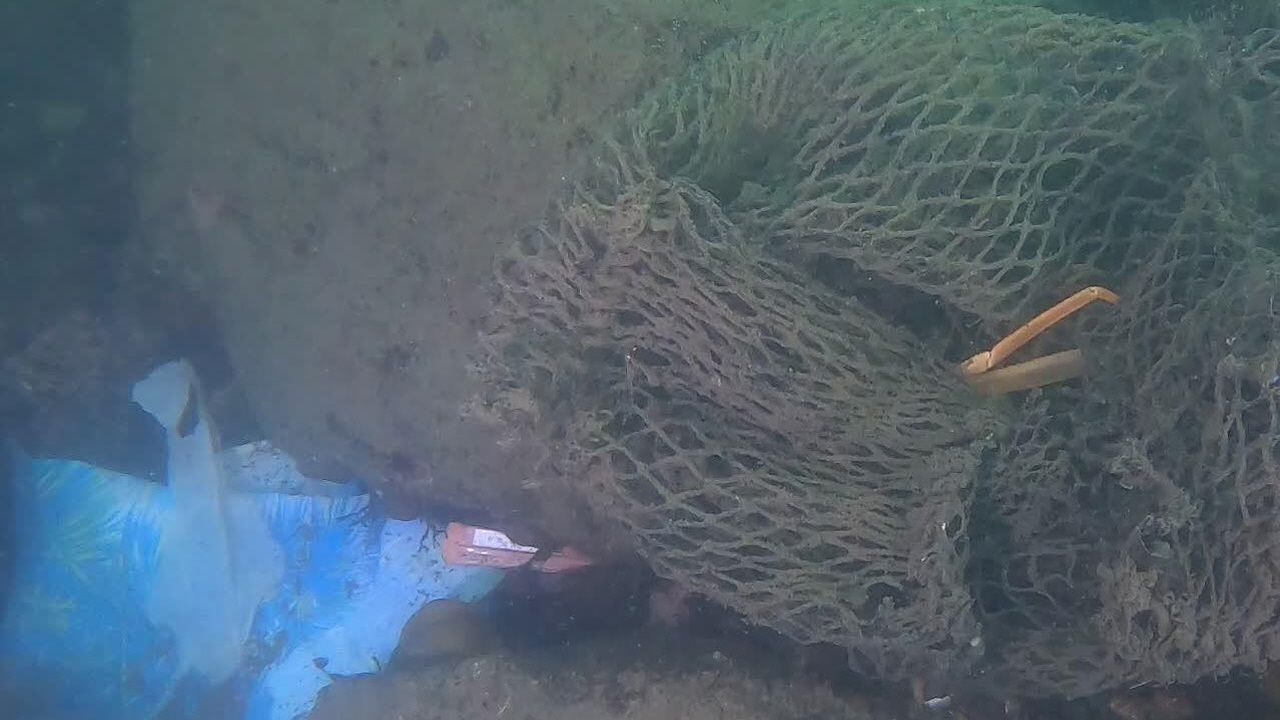fish net: (464, 0, 1280, 698)
